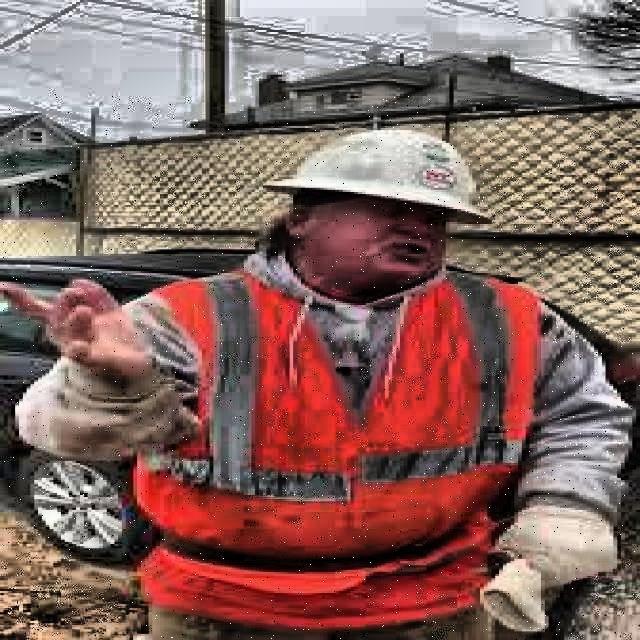safety_helmet: (265, 127, 493, 225)
safety_jacket: (135, 269, 539, 593)
